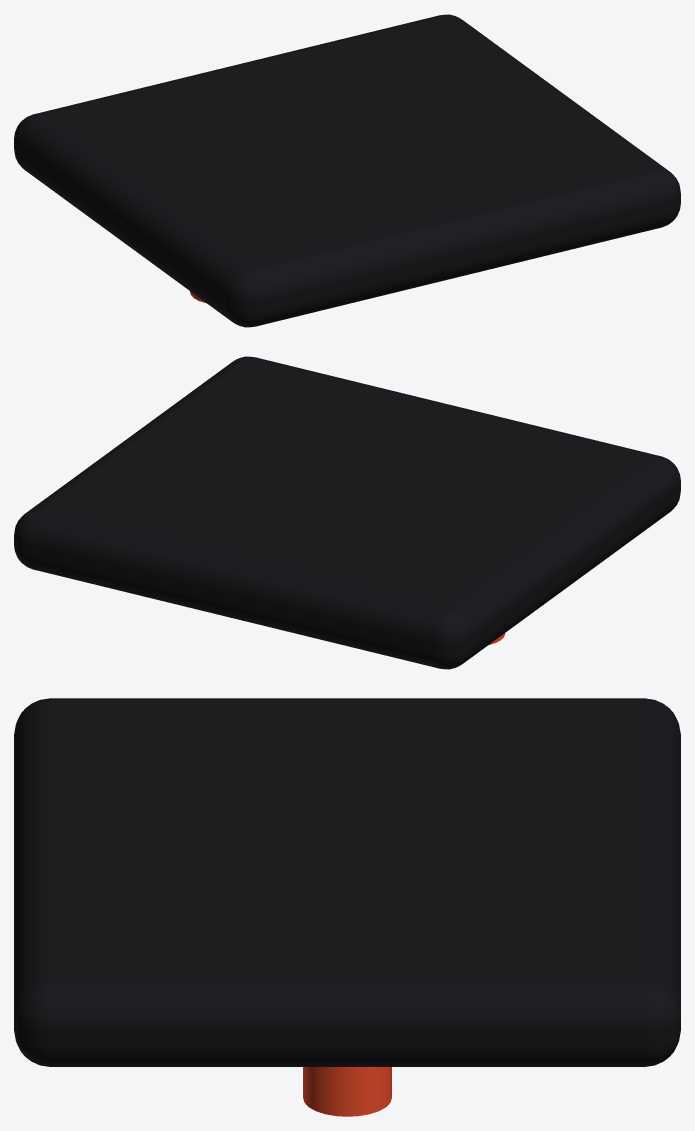
The model's file is 08_Magnetic_Mount.glb.
3 renders of one model, top to bottom at view 1: azimuth 30°, elevation 25°; view 2: azimuth 150°, elevation 25°; view 3: azimuth 270°, elevation 25°, orthographic. The views are drawn at different scales.
Visible parts, largest first — view 1: Magnetic_Mount.Rubber_Black; view 2: Magnetic_Mount.Rubber_Black; view 3: Magnetic_Mount.Rubber_Black, Magnetic_Mount.Enclave_Orange_2.
Boxes of the visible parts, bbox=[...] form: Magnetic_Mount.Rubber_Black: bbox=[14, 14, 680, 327]; Magnetic_Mount.Rubber_Black: bbox=[14, 356, 680, 669]; Magnetic_Mount.Rubber_Black: bbox=[14, 698, 680, 1066]; Magnetic_Mount.Enclave_Orange_2: bbox=[303, 1067, 391, 1116].
Bounding box in the file's own units: 0.0325 × 0.00813 × 0.0292.
